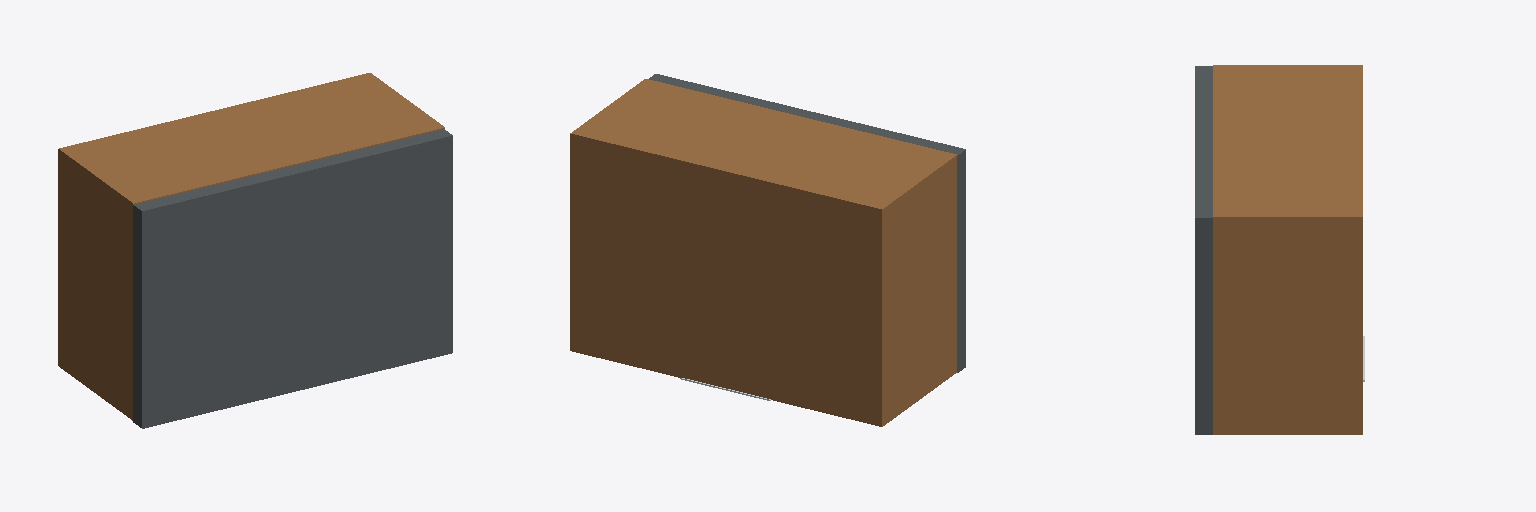
The model's file is tinker 24.obj.
3 views of the same model, side by side, from view 1: azimuth 30°, elevation 25°; view 2: azimuth 150°, elevation 25°; view 3: azimuth 270°, elevation 25° (orthographic).
Parts seen in each view (by area): view 1: obj_13, obj_0; view 2: obj_0, obj_13; view 3: obj_0, obj_13.
Boxes of the visible parts, x1,y1,x2,y2 form: obj_13: [133, 129, 452, 428]; obj_0: [58, 73, 444, 420]; obj_0: [570, 79, 956, 426]; obj_13: [649, 74, 965, 372]; obj_0: [1213, 65, 1362, 434]; obj_13: [1195, 66, 1212, 434].
Bounding box in the file's own units: 60 × 42.25 × 28.25.